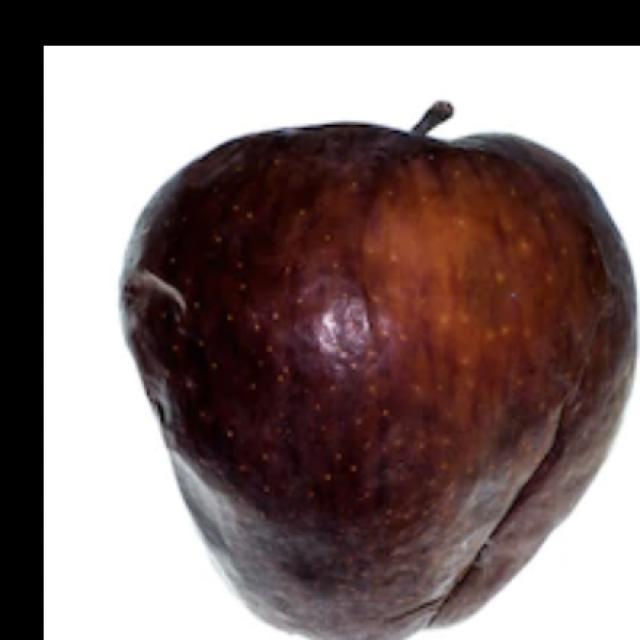Rotten: (145, 125, 640, 640)
